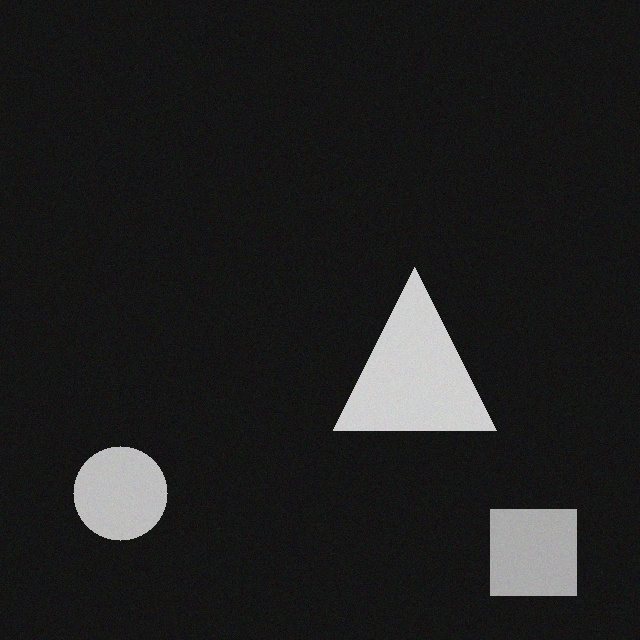circle: (68, 449, 162, 543)
square: (485, 512, 571, 598)
triangle: (328, 270, 491, 433)
